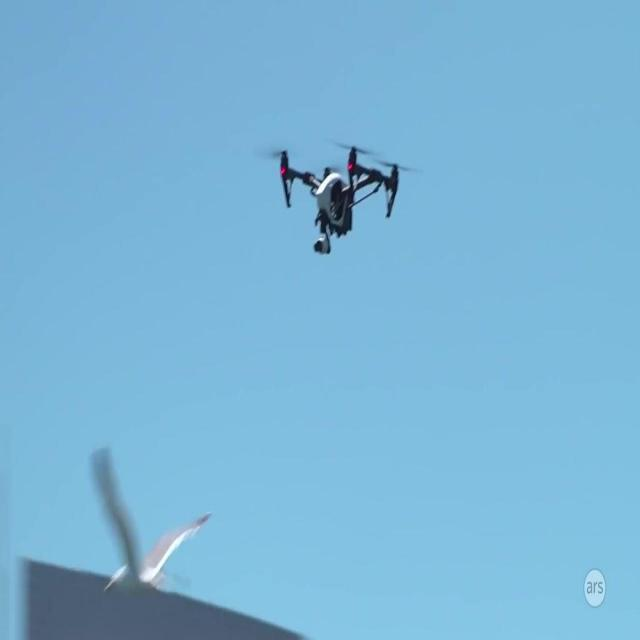UAV: (253, 138, 422, 255)
